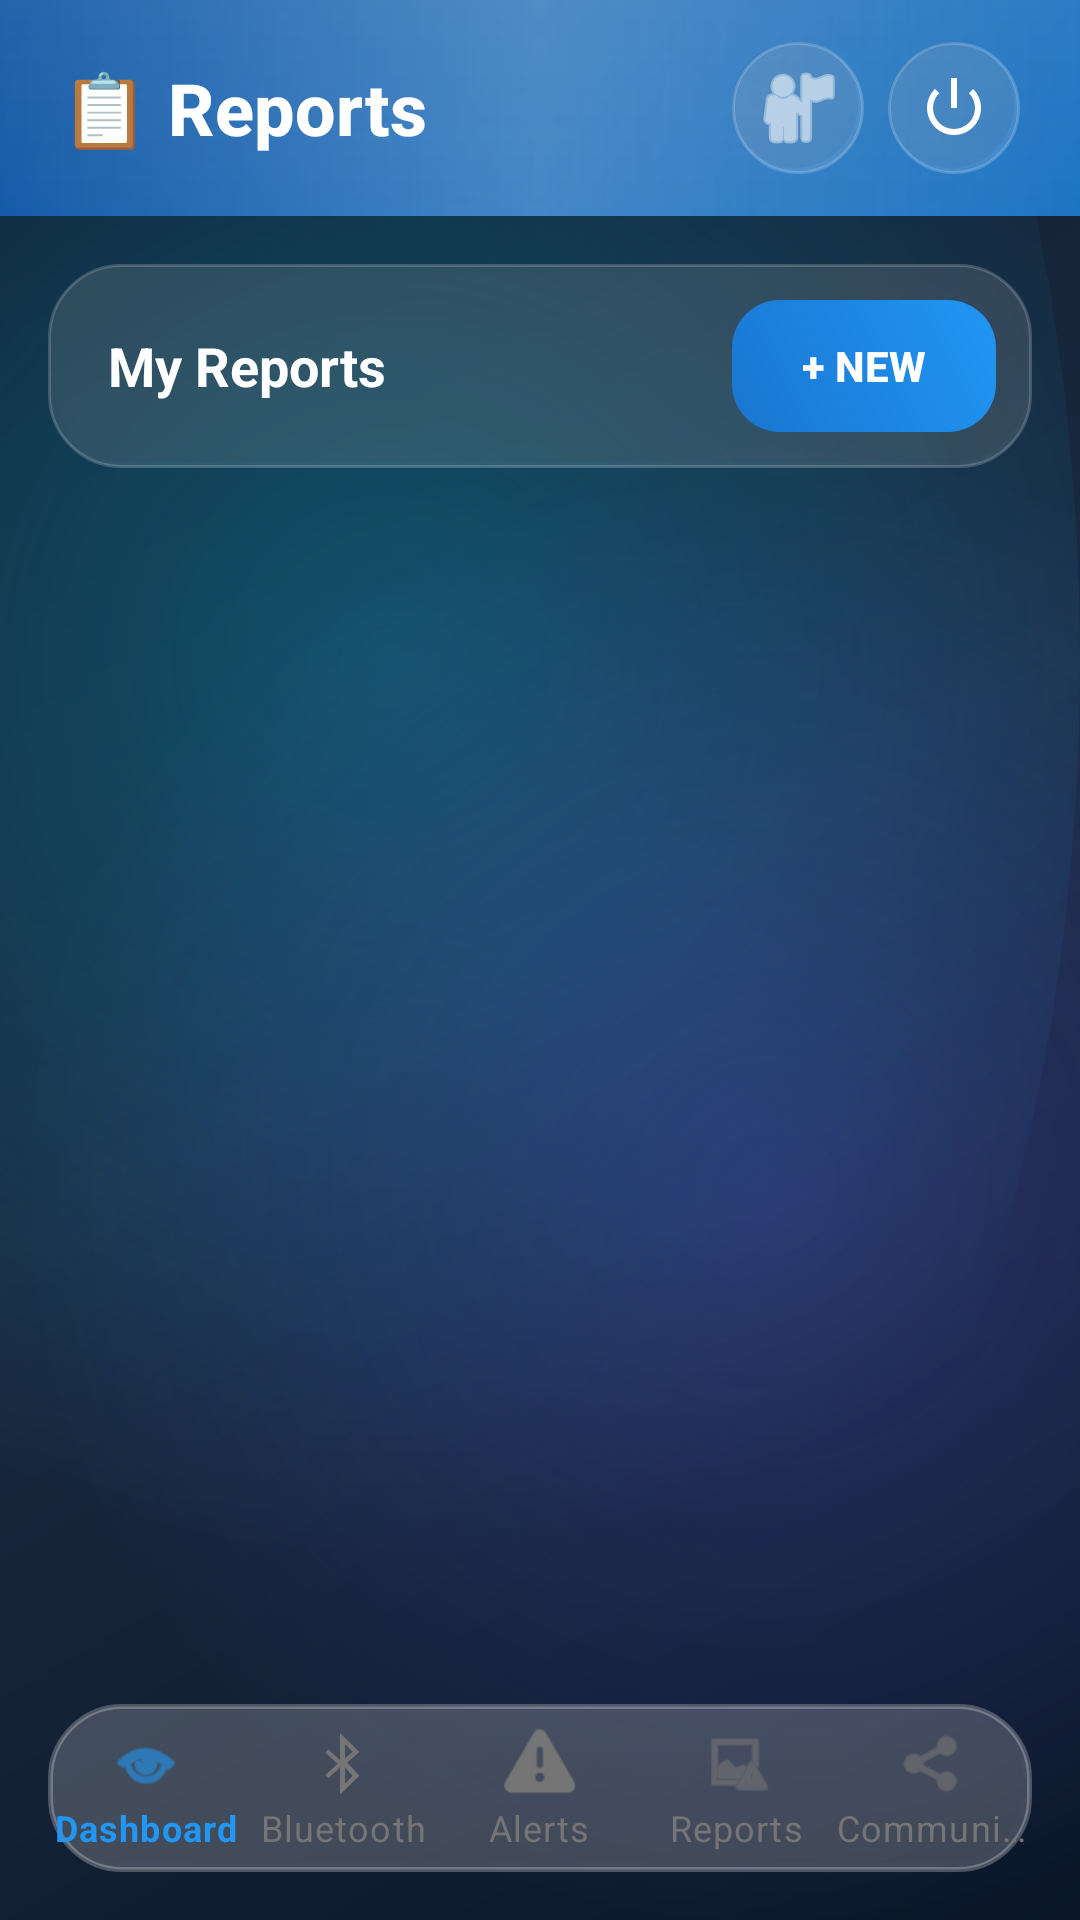

Icon click points for this 1080px x 1920px phone screenshot, format [x,y]:
Profile: [798,108]
